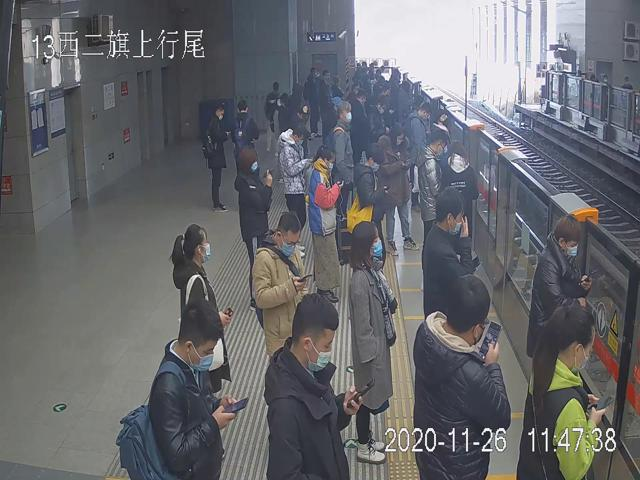person: (414, 272, 512, 477), (264, 292, 362, 480), (517, 302, 608, 480), (148, 295, 226, 480), (173, 225, 231, 459), (347, 219, 398, 464), (252, 209, 309, 366), (235, 145, 273, 312), (417, 127, 451, 291), (305, 144, 340, 301), (381, 123, 420, 257), (353, 143, 388, 268), (328, 100, 354, 264), (276, 124, 311, 232), (203, 100, 229, 215)
